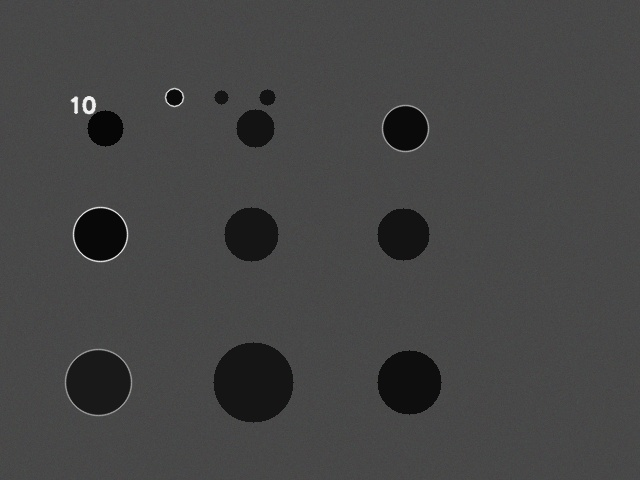hole: (213, 342, 293, 422), (65, 349, 131, 415), (377, 350, 441, 414), (73, 207, 127, 261), (224, 207, 278, 261), (377, 208, 429, 260), (382, 105, 428, 151), (236, 109, 274, 147), (87, 110, 123, 146), (165, 88, 183, 106), (259, 89, 275, 105), (214, 90, 228, 104)
